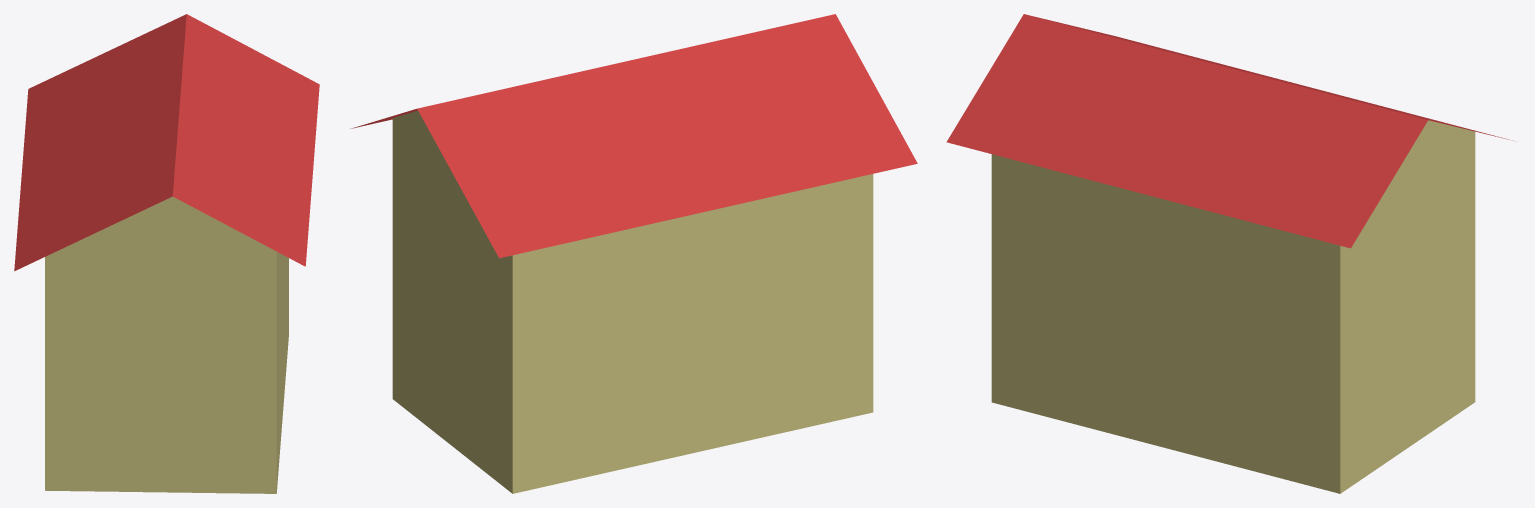
3 views of the same model, side by side, from view 1: azimuth 30°, elevation 25°; view 2: azimuth 150°, elevation 25°; view 3: azimuth 270°, elevation 25° (orthographic). The views are drawn at different scales.
Bounding box in the file's own units: 15.89 × 17.4 × 11.38.
